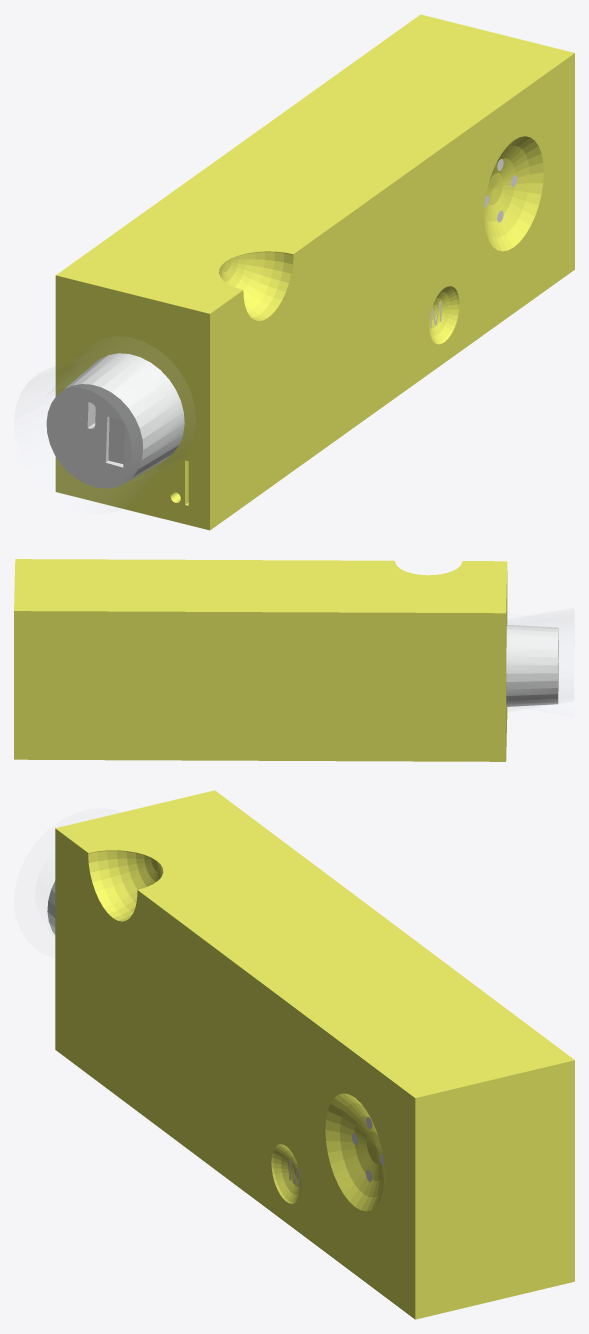
The model's file is speaker.glb.
3 views of the same model, one above another, from view 1: azimuth 30°, elevation 25°; view 2: azimuth 150°, elevation 25°; view 3: azimuth 270°, elevation 25° (orthographic). The views are drawn at different scales.
Parts seen in each view (by area): view 1: Box005, Batterie002, Box003, ContourBat002; view 2: Box005, Batterie002, ContourBat002; view 3: Box005.
Boxes of the visible parts, <box> form: Box005: <box>55,14,574,530</box>; Batterie002: <box>46,353,184,488</box>; Box003: <box>108,417,124,463</box>; ContourBat002: <box>47,350,172,483</box>; Box005: <box>14,559,507,761</box>; Batterie002: <box>506,624,558,706</box>; ContourBat002: <box>507,616,573,708</box>; Box005: <box>55,790,574,1319</box>.
Bounding box in the file's own units: 37.23 × 11.21 × 25.73.
